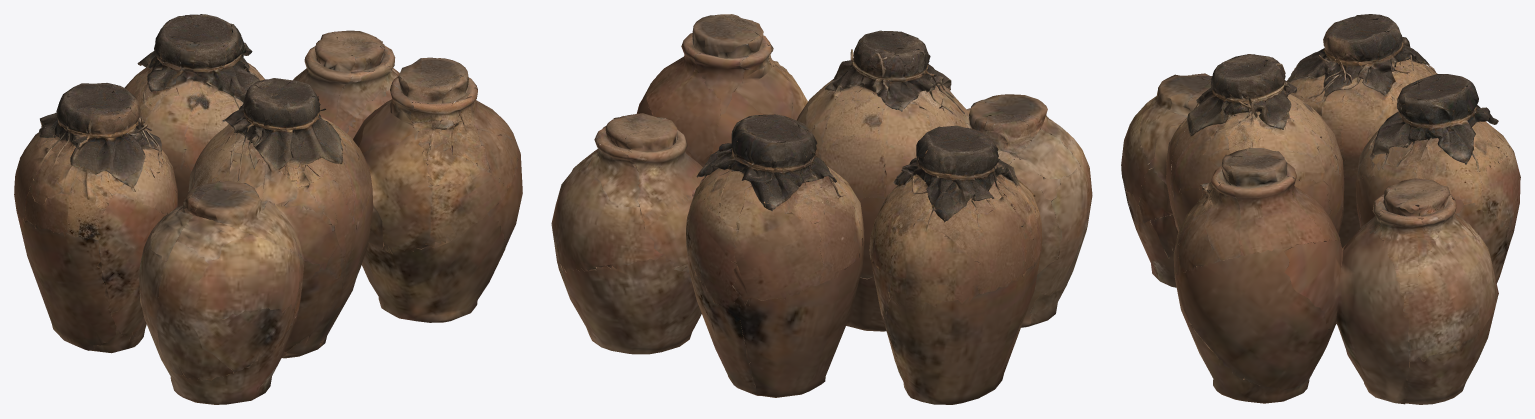
The model's file is ferment-jars.glb.
3 renders of one model, left to right at view 1: azimuth 30°, elevation 25°; view 2: azimuth 150°, elevation 25°; view 3: azimuth 270°, elevation 25°, orthographic. The views are drawn at different scales.
Visible parts, largest first — view 1: Mesh_0; view 2: Mesh_0; view 3: Mesh_0.
Boxes of the visible parts, left/top/right/bottom form: Mesh_0: left=14, top=14, right=522, bottom=404; Mesh_0: left=551, top=14, right=1092, bottom=404; Mesh_0: left=1121, top=14, right=1520, bottom=404.
Bounding box in the file's own units: 1.55 × 0.9 × 1.31.
1 material, 1 textured.
